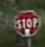stop: (11, 9, 41, 36)
